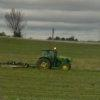Tractor: (32, 42, 71, 81)
